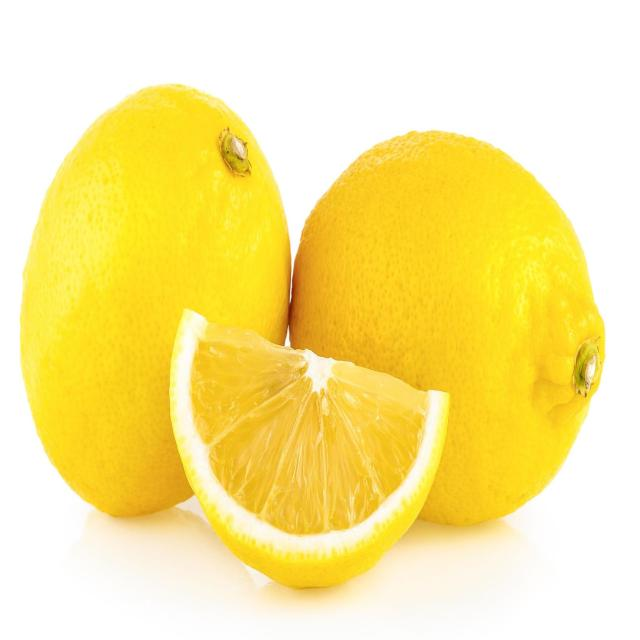lemon: (284, 123, 611, 534), (164, 302, 456, 592)
